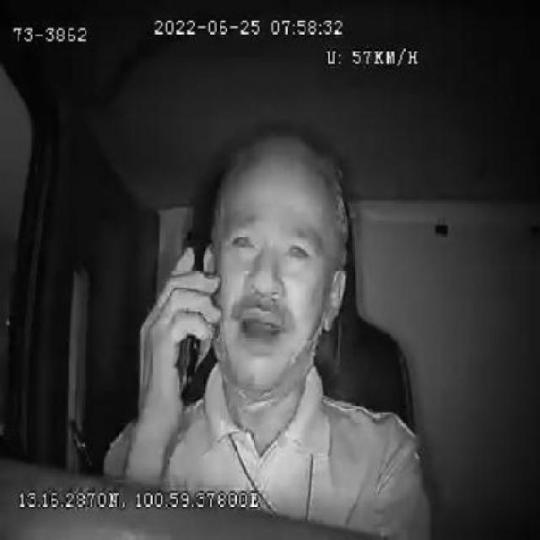phone: (172, 227, 206, 407)
